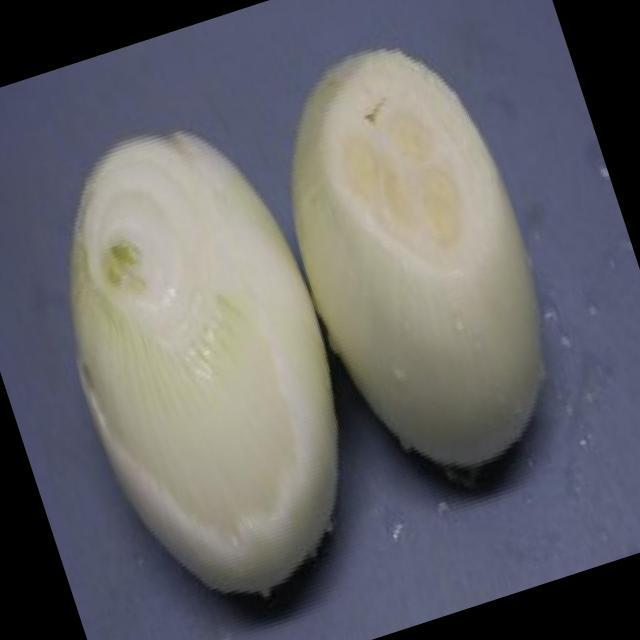Onion: (71, 132, 338, 587), (299, 45, 550, 470)
